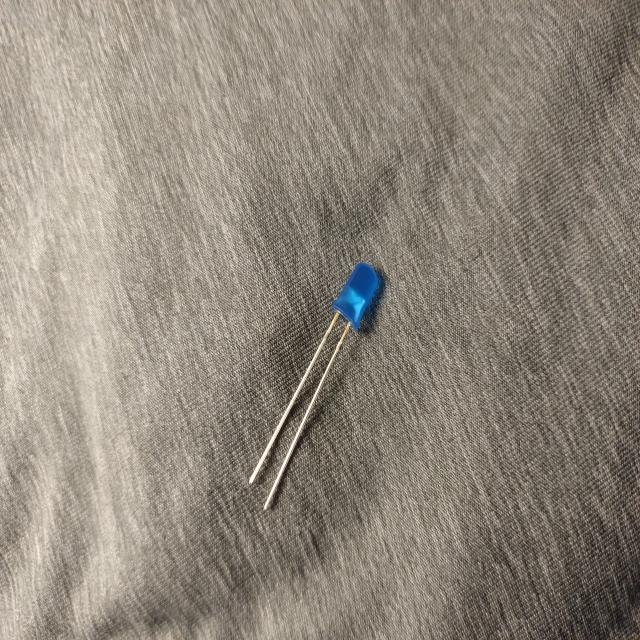blue_led: (242, 236, 392, 517)
